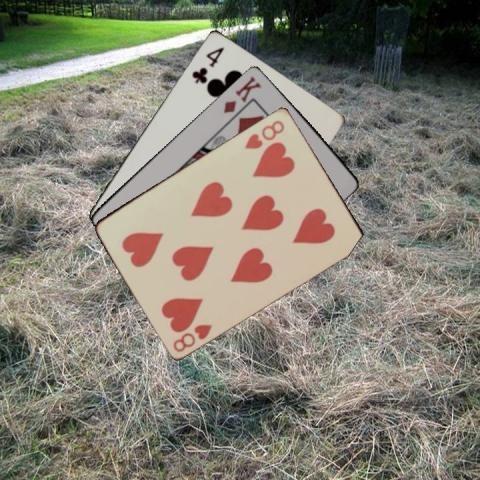4c: (189, 44, 225, 85)
8h: (241, 117, 286, 150), (170, 321, 214, 353)
Kd: (220, 72, 263, 115)
